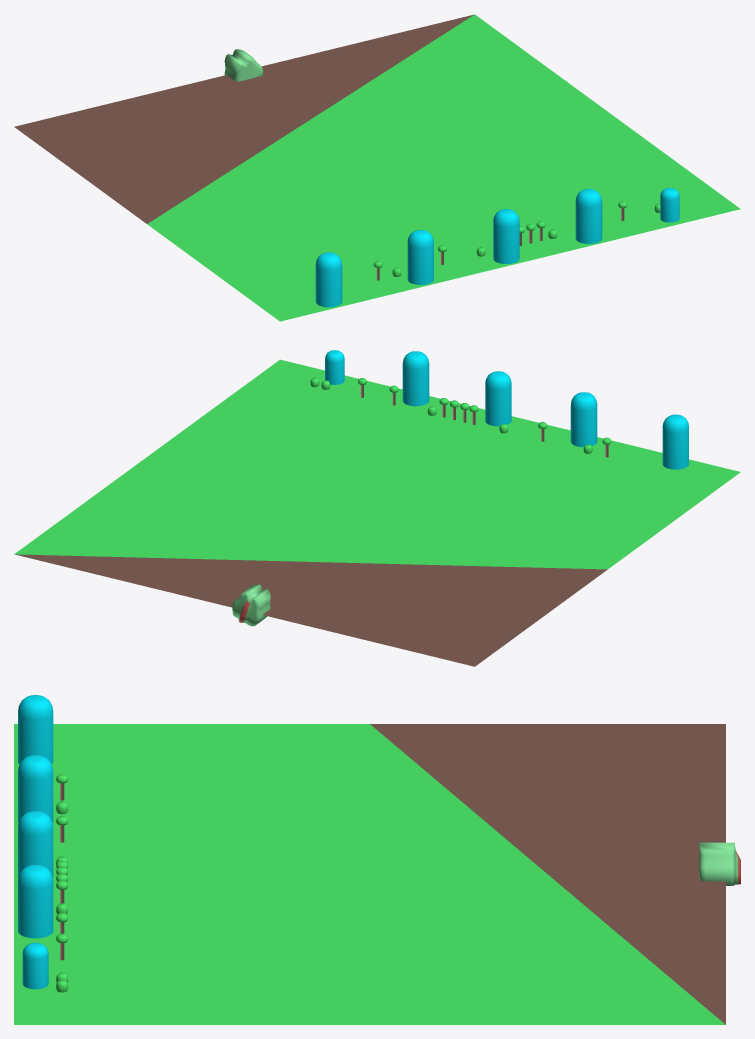
File: YoshiExam.fbx
The picture shows the model from 3 angles, top to bottom: view 1: azimuth 30°, elevation 25°; view 2: azimuth 150°, elevation 25°; view 3: azimuth 270°, elevation 25°; orthographic projection. The views are drawn at different scales.
Visible parts, largest first — view 1: Plane, mountain, Cube; view 2: Plane, mountain, Cube; view 3: Plane, mountain, Cube.
Part boxes in pixels (x1=…): Plane: x1=14, y1=14, x2=740, y2=321; mountain: x1=315, y1=188, x2=679, y2=307; Cube: x1=224, y1=49, x2=263, y2=81; Plane: x1=14, y1=359, x2=740, y2=666; mountain: x1=325, y1=350, x2=688, y2=469; Cube: x1=232, y1=584, x2=270, y2=626; Plane: x1=14, y1=724, x2=725, y2=1024; mountain: x1=18, y1=695, x2=53, y2=989; Cube: x1=699, y1=842, x2=740, y2=885.
Size of the model in its own units: 40 by 40.85 by 4.85.
